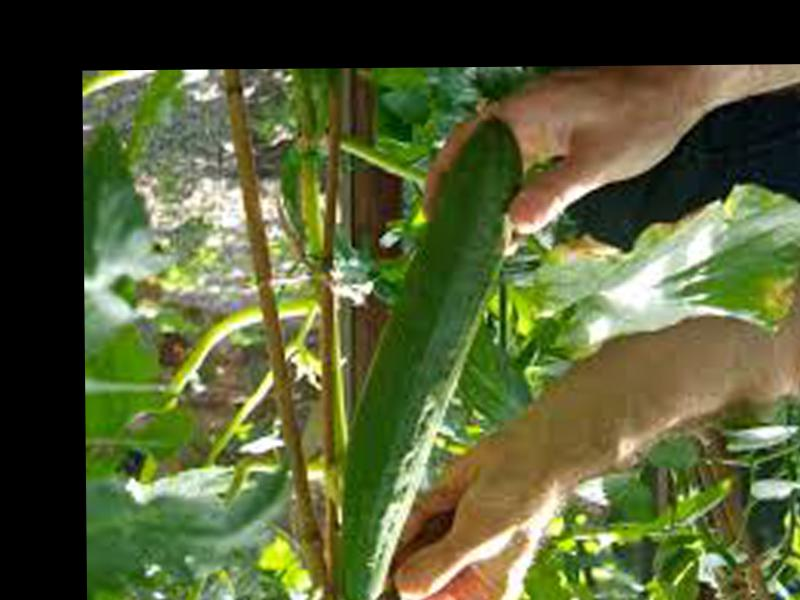Cucumber: (332, 118, 524, 600)
